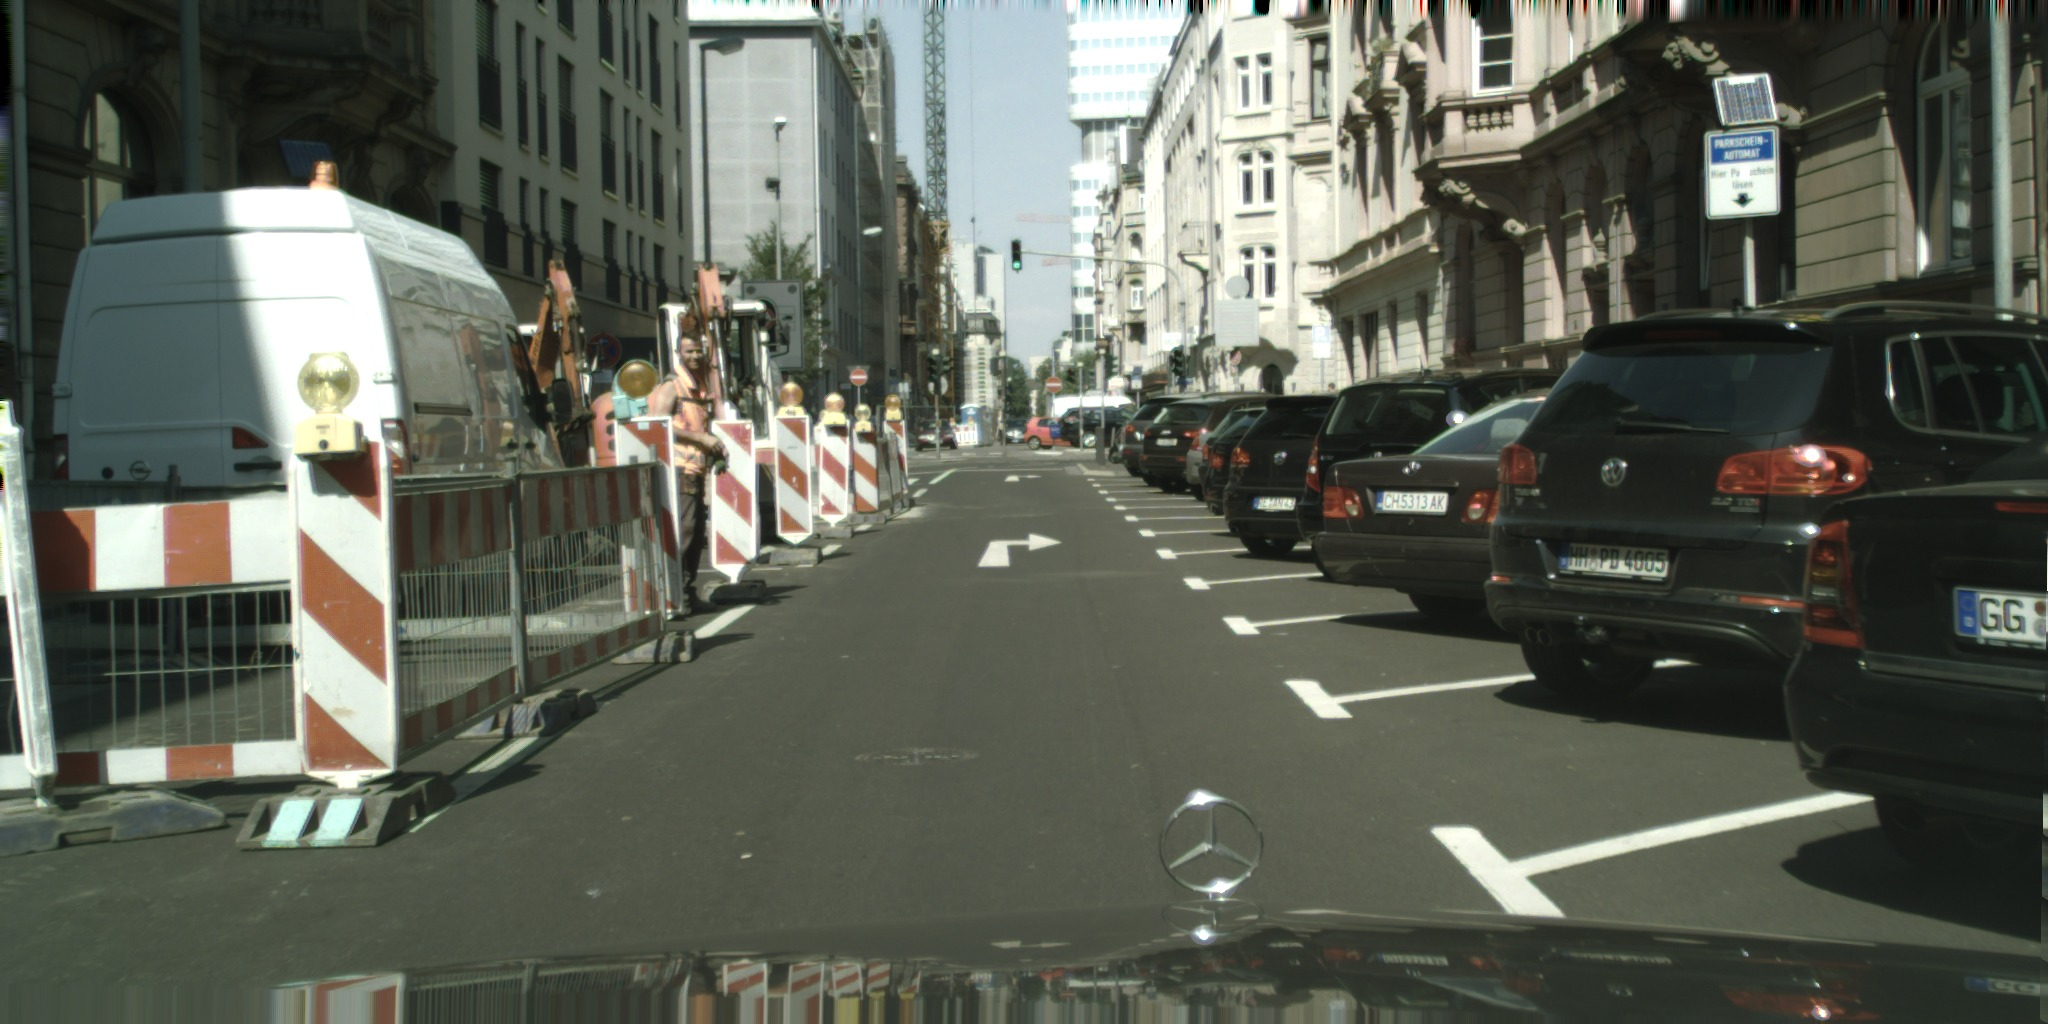car: (1484, 301, 2047, 704), (52, 186, 575, 602), (1781, 426, 2047, 881), (1315, 388, 1660, 623), (1296, 367, 1613, 550), (1223, 392, 1406, 559), (1138, 390, 1283, 493), (1186, 399, 1291, 502), (1119, 392, 1207, 477), (1204, 409, 1272, 516), (1197, 405, 1270, 498), (1058, 405, 1145, 448), (1025, 416, 1081, 450), (915, 419, 958, 451), (1001, 418, 1034, 446)
motorcycle: (1108, 427, 1127, 463)
person: (653, 332, 729, 617), (1328, 381, 1336, 399)
